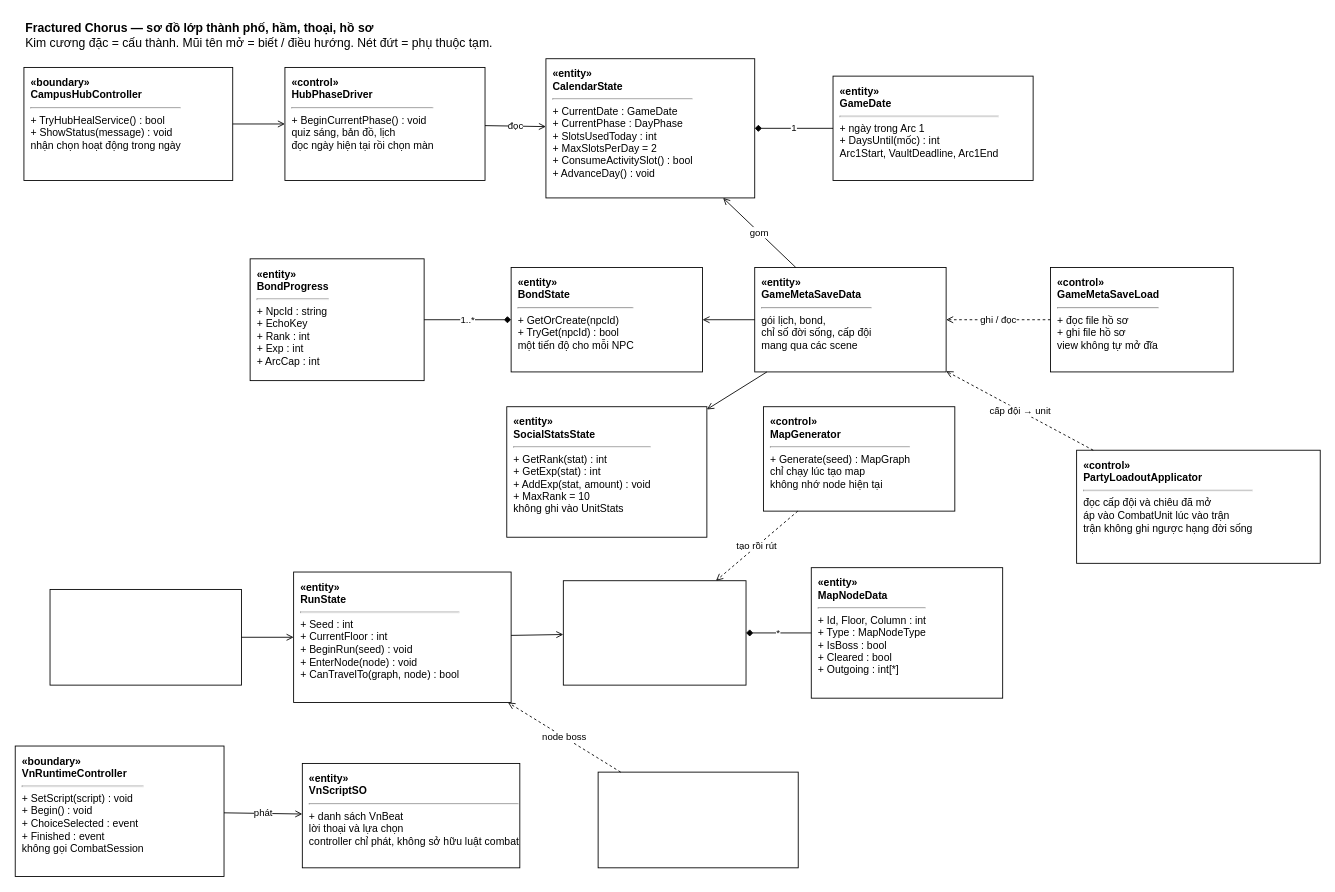
The diagram is 1335 pixels wide and 892 high, and some of its shapes have lost their labels. The shapes that lost their labels are listed below. From the top down, each one's centre as x and y in pixels, then its label:
the point at 145,637: «boundary» RunMapController nhận chọn node trên map hỏi RunState trước khi đi
the point at 654,632: «entity» MapGraph + các node của một seed + cạnh đi giữa các tầng sống suốt run
the point at 697,819: «control» RunMapSceneLoader node boss mở scene combat không sinh lại MapGraph
